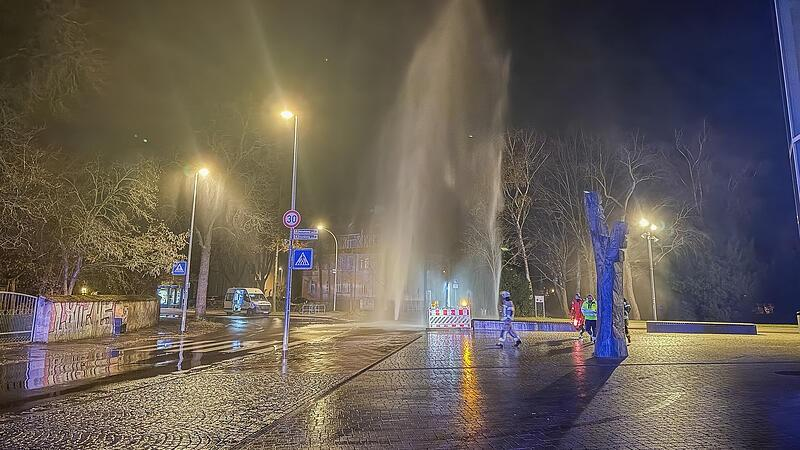pipe burst: (372, 0, 511, 322)
water accumulation: (0, 317, 397, 421)
